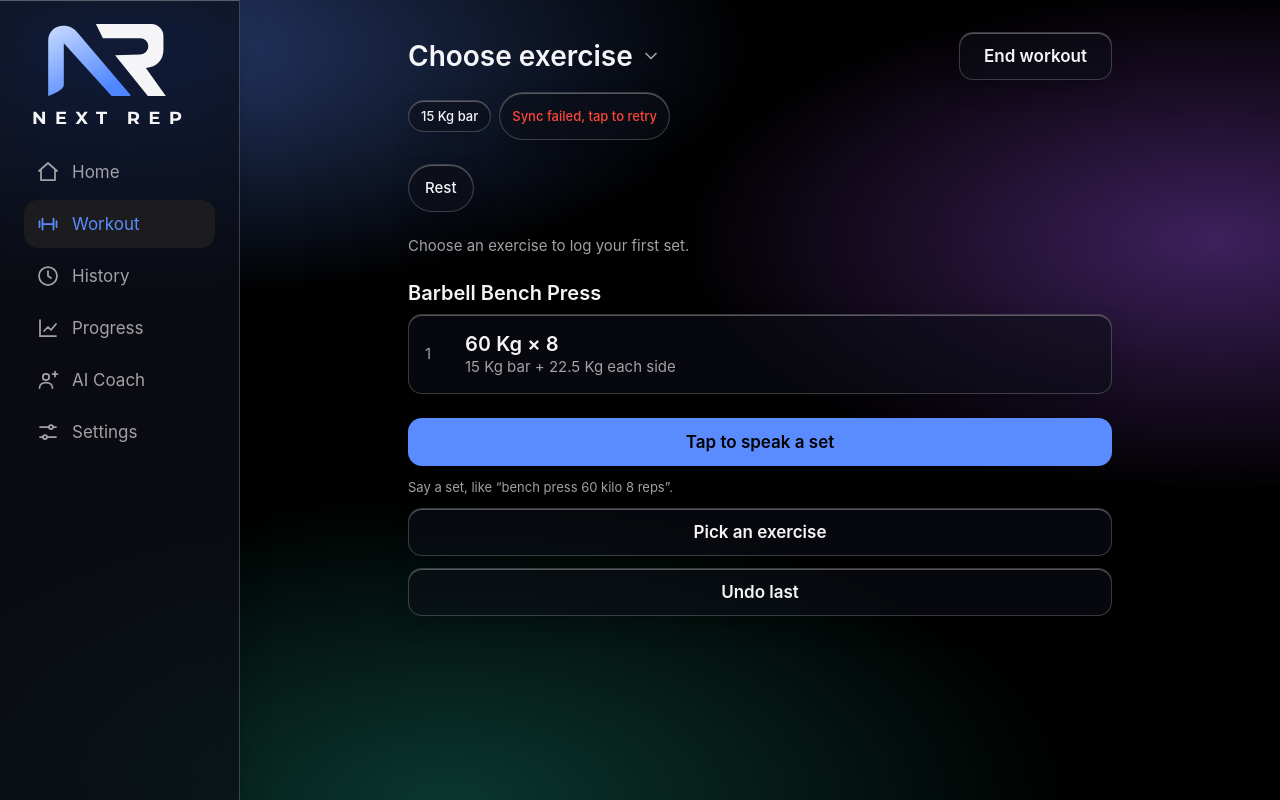
Scenario: the sync badge › offers a retry when a set failed, and sends it
Step 1. Click the button "Sync failed, tap to retry" → (585, 116), box [499,92,670,140]
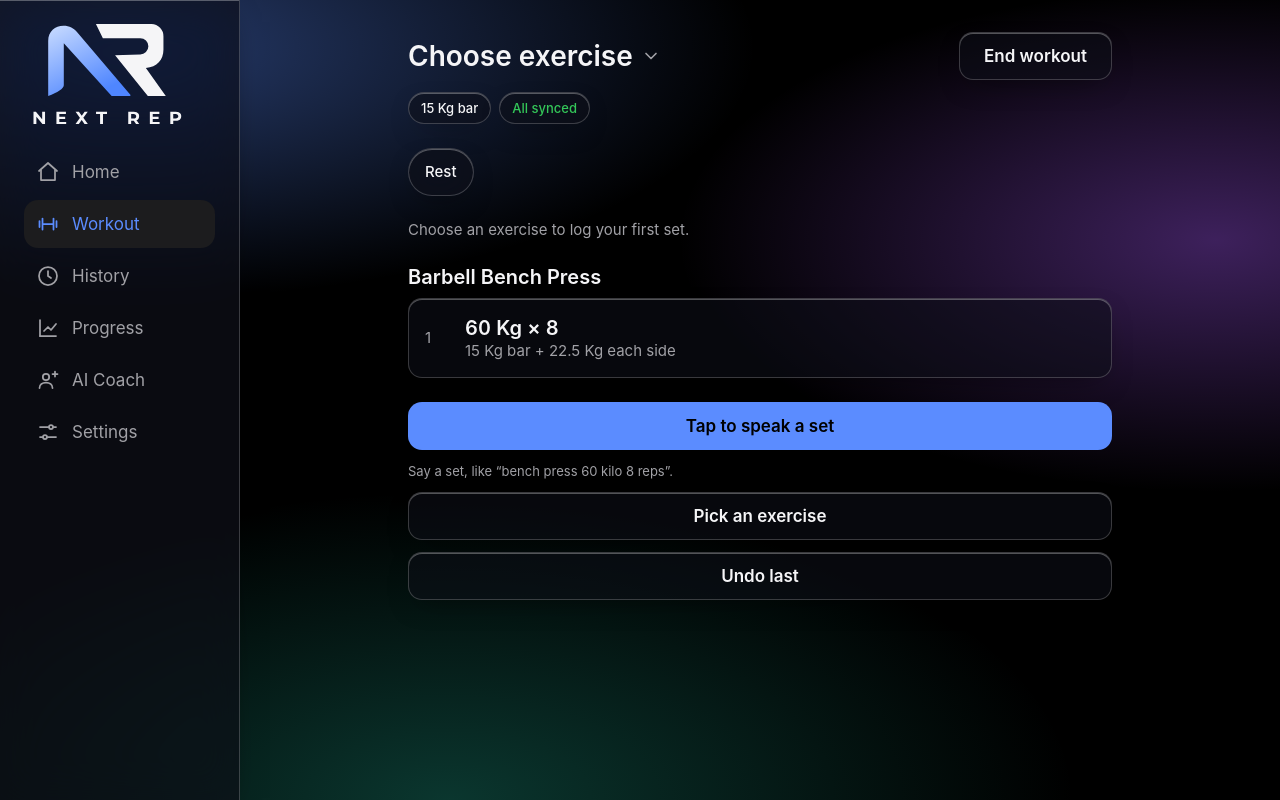
expect the text "All synced" is shown: met, box [499,92,590,124]
